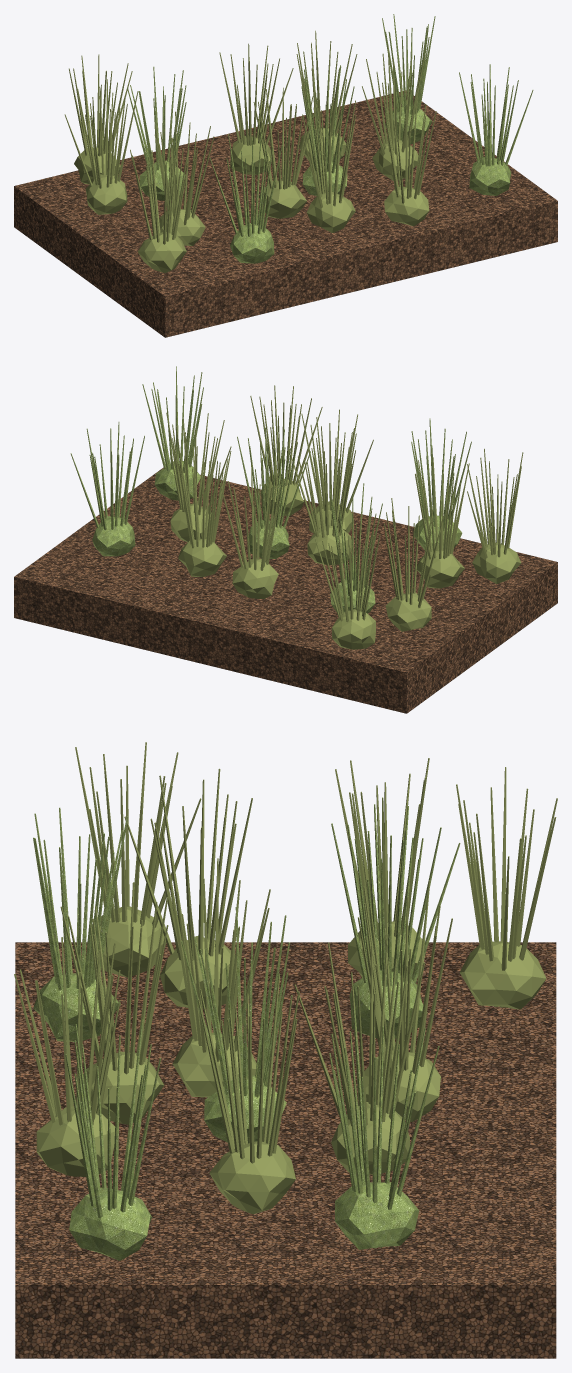
The picture shows the model from 3 angles, top to bottom: view 1: azimuth 30°, elevation 25°; view 2: azimuth 150°, elevation 25°; view 3: azimuth 270°, elevation 25°; orthographic projection. The views are drawn at different scales.
Parts seen in each view (by area): view 1: landscape.ornamental_grasses, biljka-0-0.9 (×5), biljka-2-0.9 (×5), biljka-1-0.9 (×5); view 2: landscape.ornamental_grasses, biljka-0-0.9 (×5), biljka-2-0.9 (×5), biljka-1-0.9 (×5); view 3: landscape.ornamental_grasses, biljka-1-0.9 (×5), biljka-2-0.9 (×5), biljka-0-0.9 (×5).
Part boxes in pixels (x1,y1,x2,y2): landscape.ornamental_grasses: (14,90,557,337); biljka-0-0.9 (×5): (64,30,436,272); biljka-2-0.9 (×5): (69,43,425,245); biljka-1-0.9 (×5): (127,14,533,263); landscape.ornamental_grasses: (14,467,557,713); biljka-0-0.9 (×5): (178,385,523,631); biljka-2-0.9 (×5): (166,409,469,649); biljka-1-0.9 (×5): (70,366,471,613); landscape.ornamental_grasses: (15,942,556,1358); biljka-1-0.9 (×5): (33,804,460,1260); biljka-2-0.9 (×5): (60,767,557,1214); biljka-0-0.9 (×5): (14,742,429,1176).
Bounding box in the file's own units: 3 × 2.01 × 1.17.
3 materials, 2 textured.
